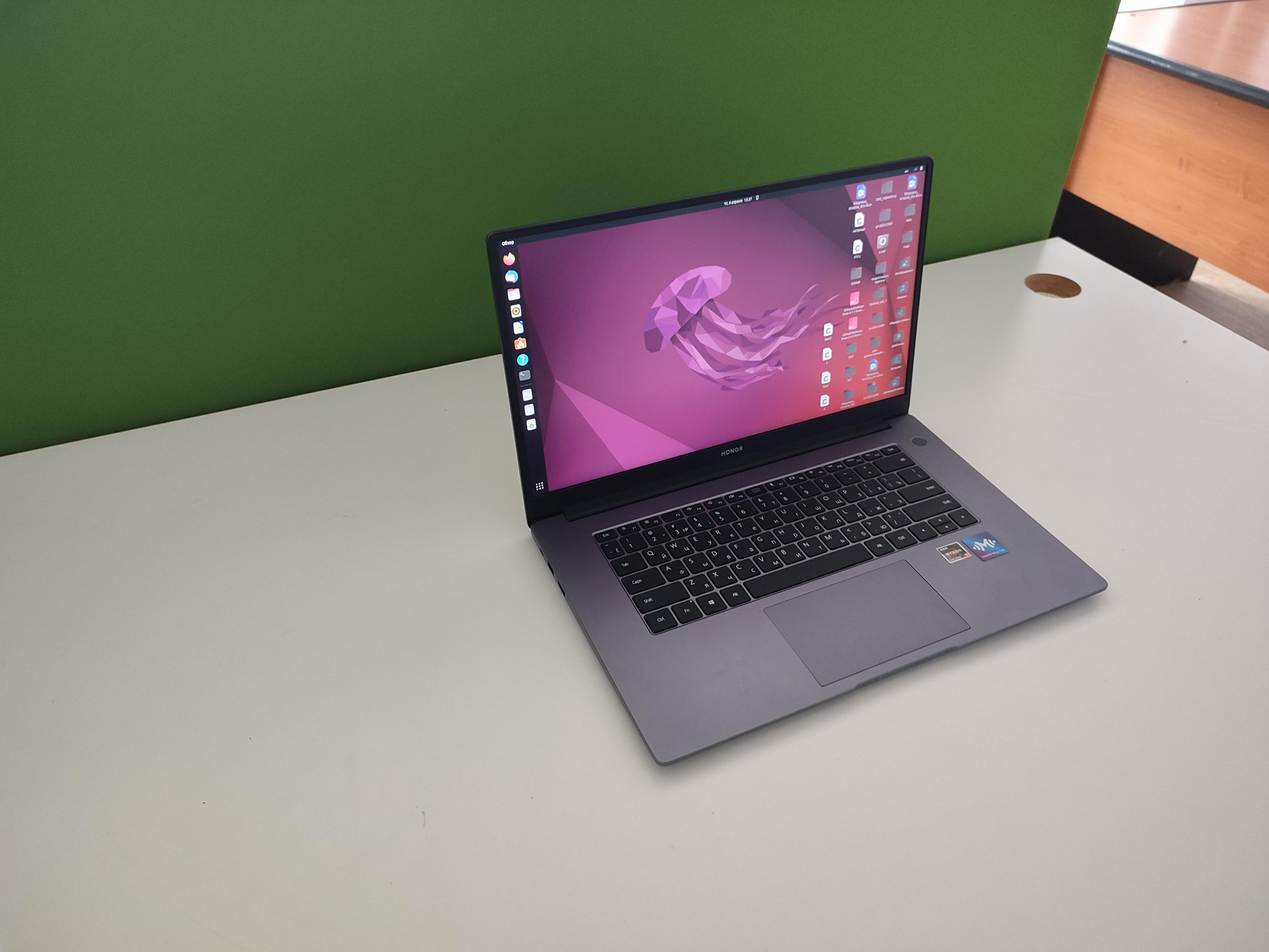monitor: (485, 153, 937, 527)
